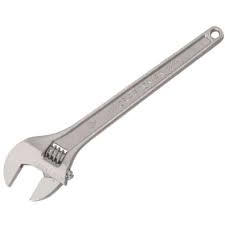wrench: (2, 22, 225, 203)
